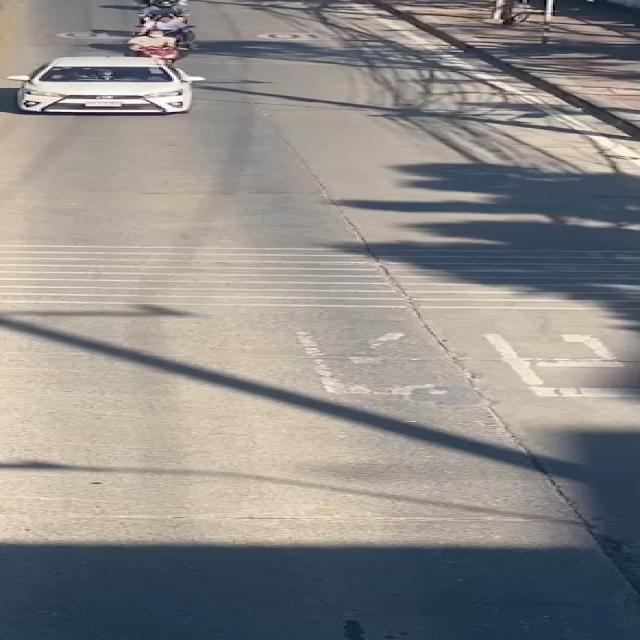car: (0, 47, 220, 123)
